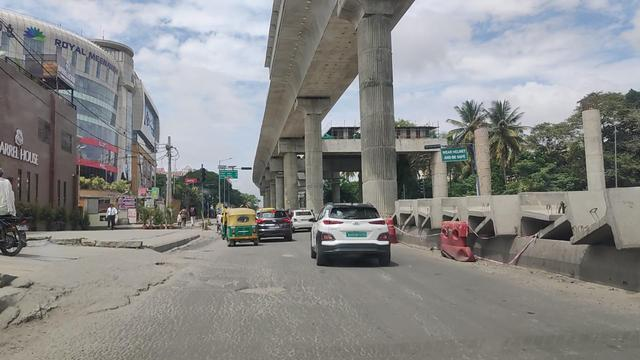LMV: (309, 200, 384, 266), (225, 208, 256, 246)
RoadDamages: (237, 278, 286, 297)
